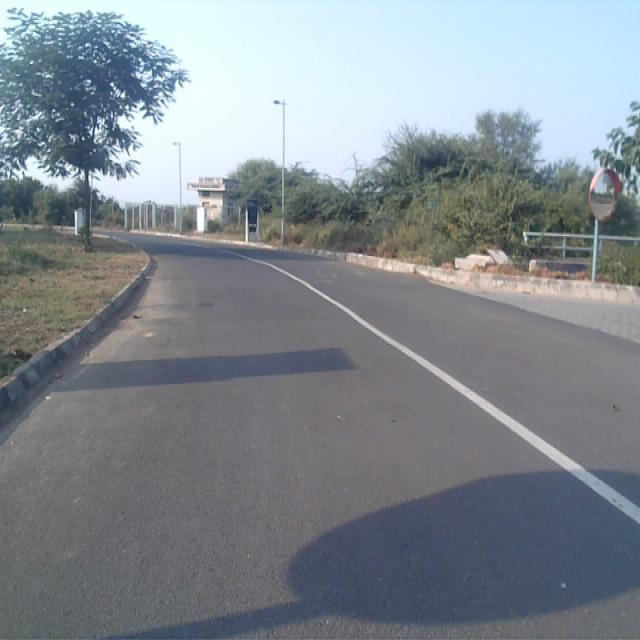lane: (0, 241, 640, 640)
